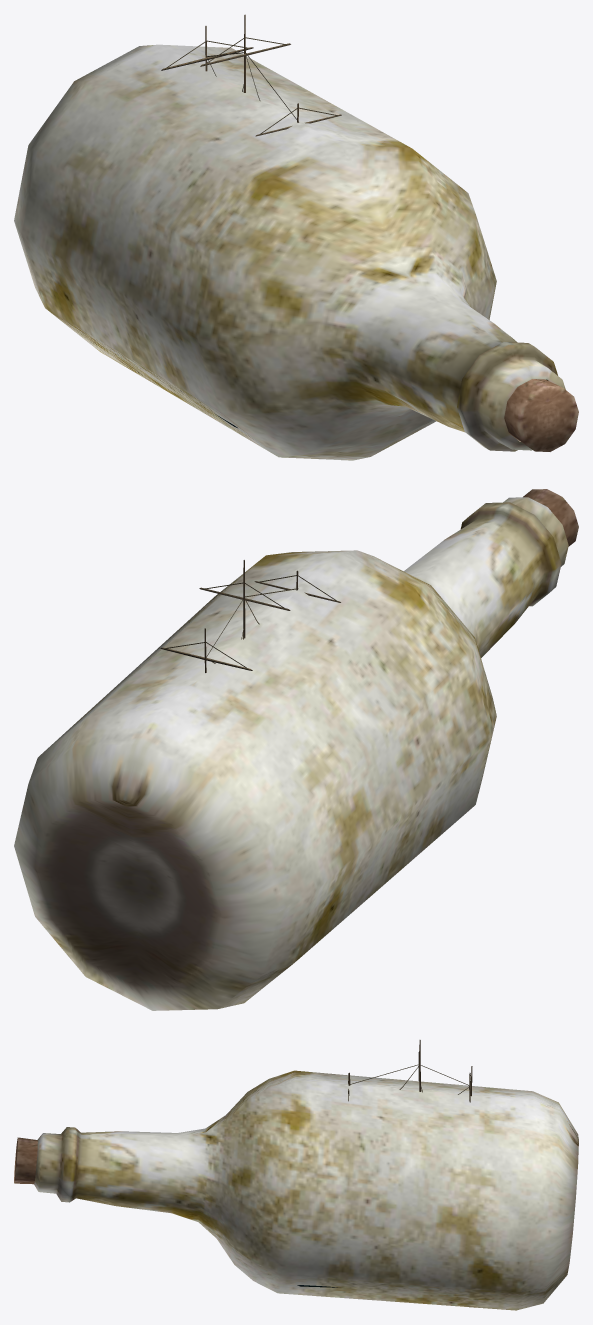
Rendered from Bottle_Ship05.fbx.
3 views of the same model, one above another, from view 1: azimuth 30°, elevation 25°; view 2: azimuth 150°, elevation 25°; view 3: azimuth 270°, elevation 25° (orthographic). The views are drawn at different scales.
Parts seen in each view (by area): view 1: bottle_02, bottle_cap_02, U_Ship_05; view 2: bottle_02, U_Ship_05, bottle_cap_02; view 3: bottle_02, bottle_cap_02, U_Ship_05.
Boxes of the visible parts, x1,y1,x2,y2 form: bottle_02: [14, 44, 565, 460]; bottle_cap_02: [504, 379, 578, 451]; U_Ship_05: [161, 14, 341, 136]; bottle_02: [14, 497, 568, 1010]; U_Ship_05: [160, 560, 340, 672]; bottle_cap_02: [523, 489, 578, 546]; bottle_02: [34, 1070, 578, 1310]; bottle_cap_02: [14, 1137, 37, 1184]; U_Ship_05: [348, 1040, 472, 1102].
Size of the model in its own units: 0.1876 by 0.2411 by 0.4725.
